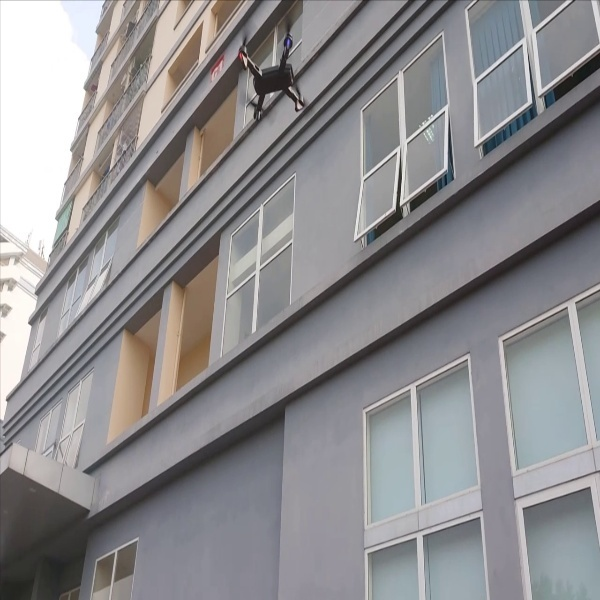drone: (232, 12, 319, 124)
